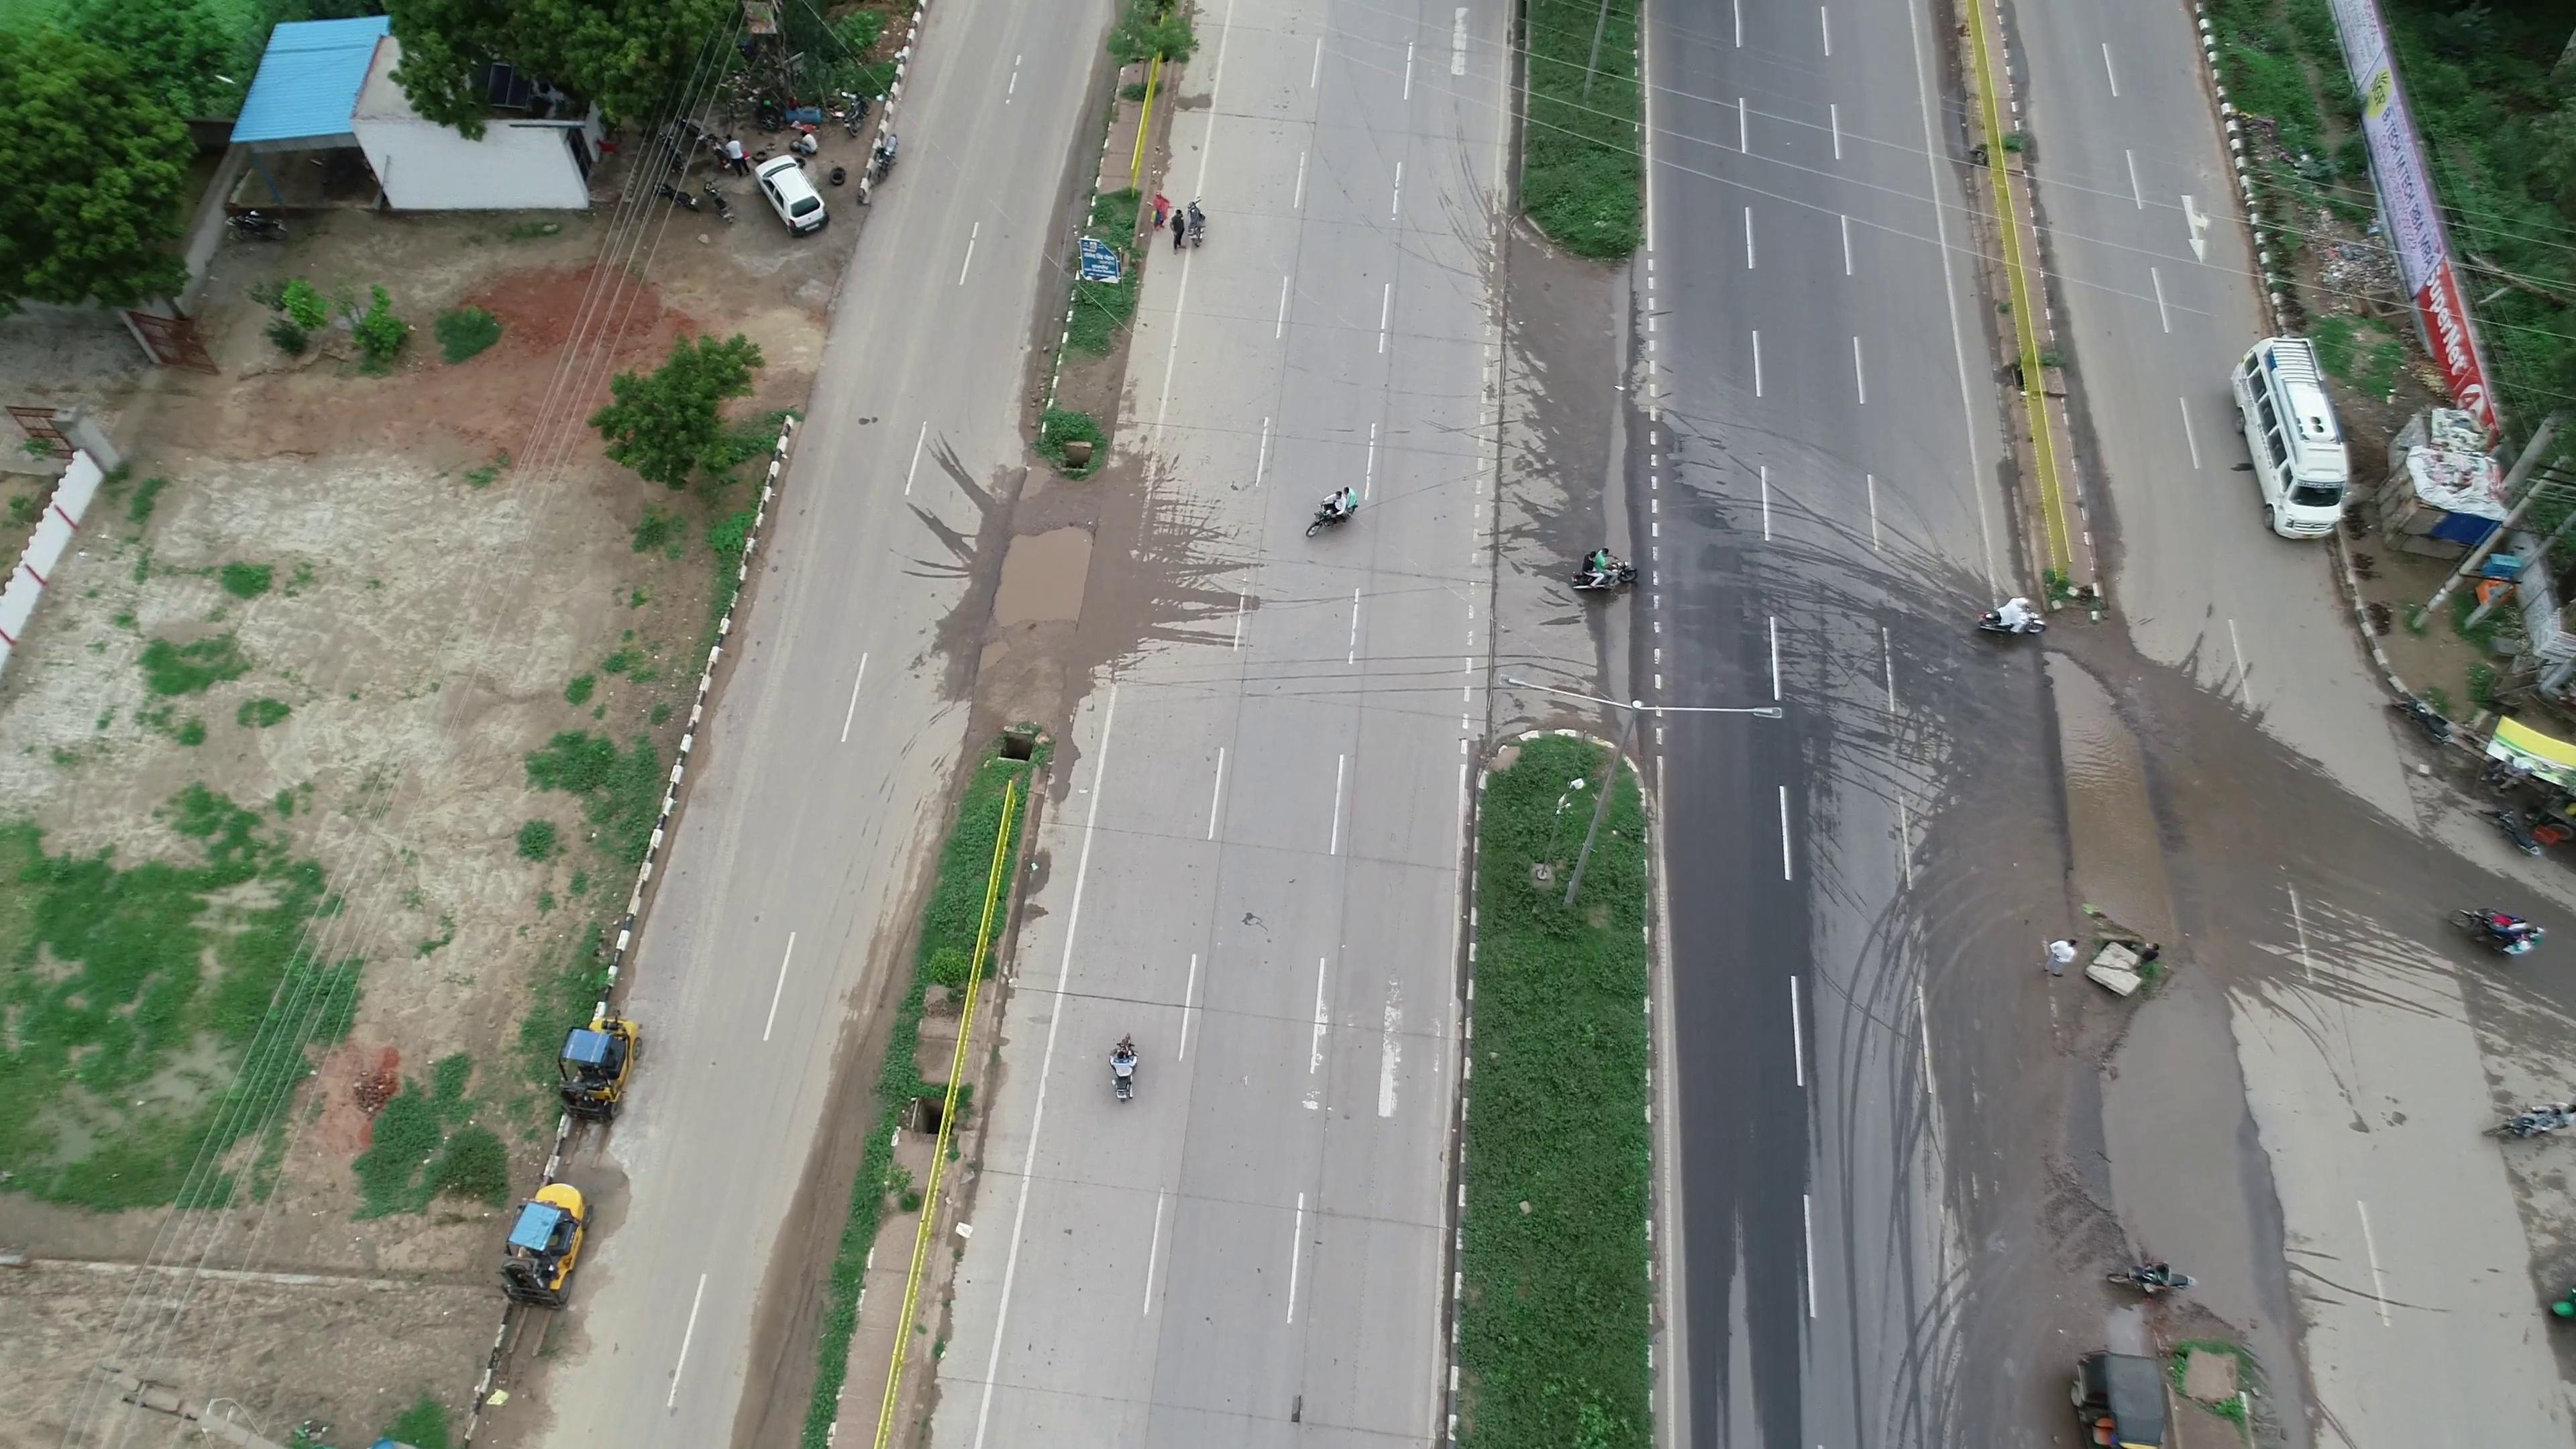Waterlogging: (2015, 639, 2189, 943), (2086, 994, 2273, 1265)
